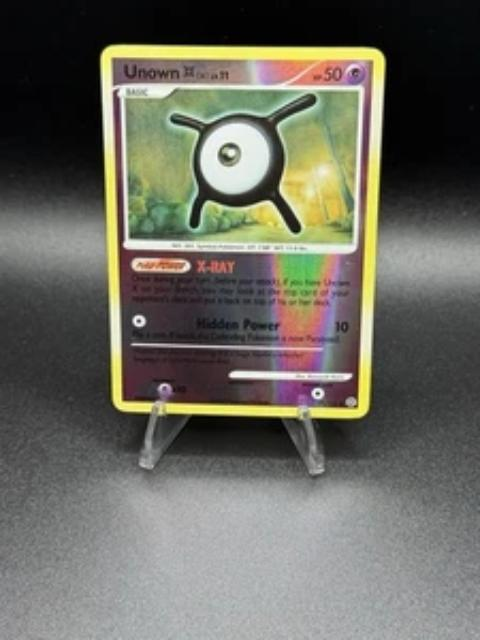Card: (93, 39, 390, 425)
Name: (115, 59, 197, 84)
